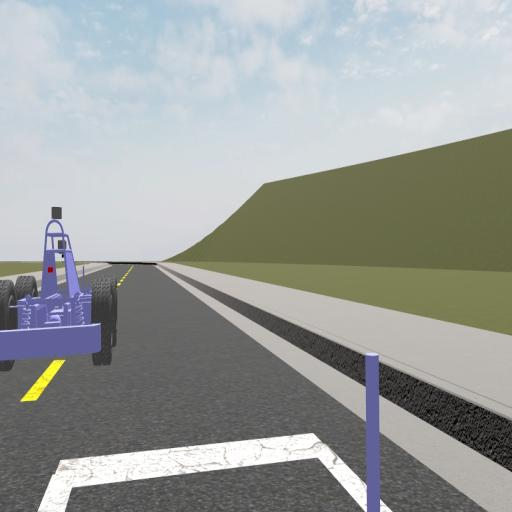ERP-42: (0, 204, 118, 374)
